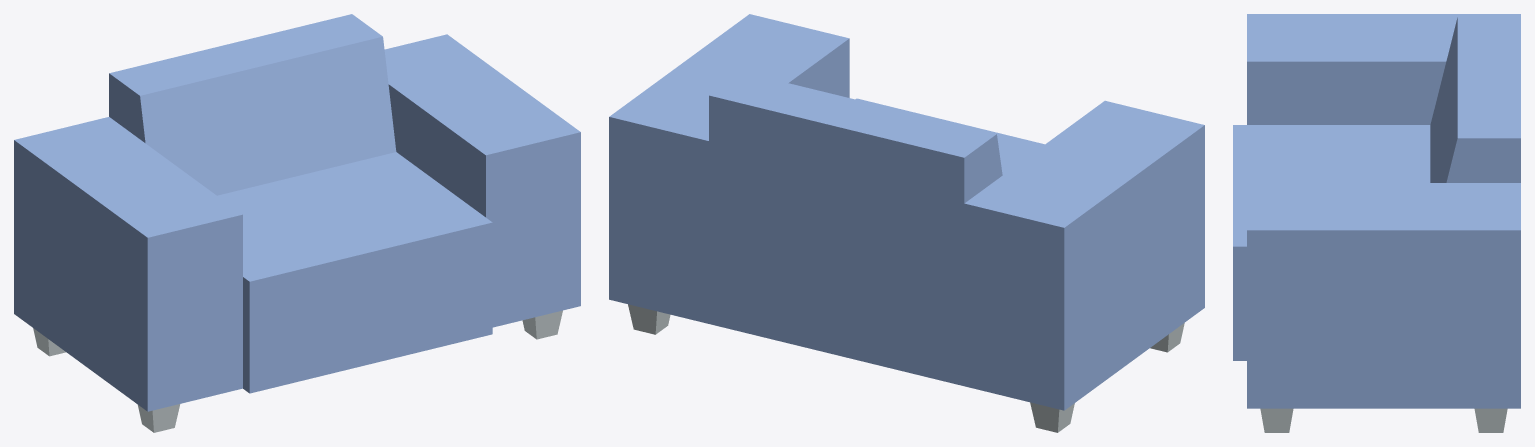
File: loungeDesignChair.glb
3 renders of one model, left to right at view 1: azimuth 30°, elevation 25°; view 2: azimuth 150°, elevation 25°; view 3: azimuth 270°, elevation 25°, orthographic. The views are drawn at different scales.
Visible parts, largest first — view 1: loungeDesignChair(Clone); view 2: loungeDesignChair(Clone); view 3: loungeDesignChair(Clone).
Boxes of the visible parts, x1,y1,x2,y2 form: loungeDesignChair(Clone): (14, 14, 580, 432); loungeDesignChair(Clone): (609, 14, 1204, 432); loungeDesignChair(Clone): (1233, 14, 1520, 432).
Bounding box in the file's own units: 0.7296 × 0.4 × 0.41.
